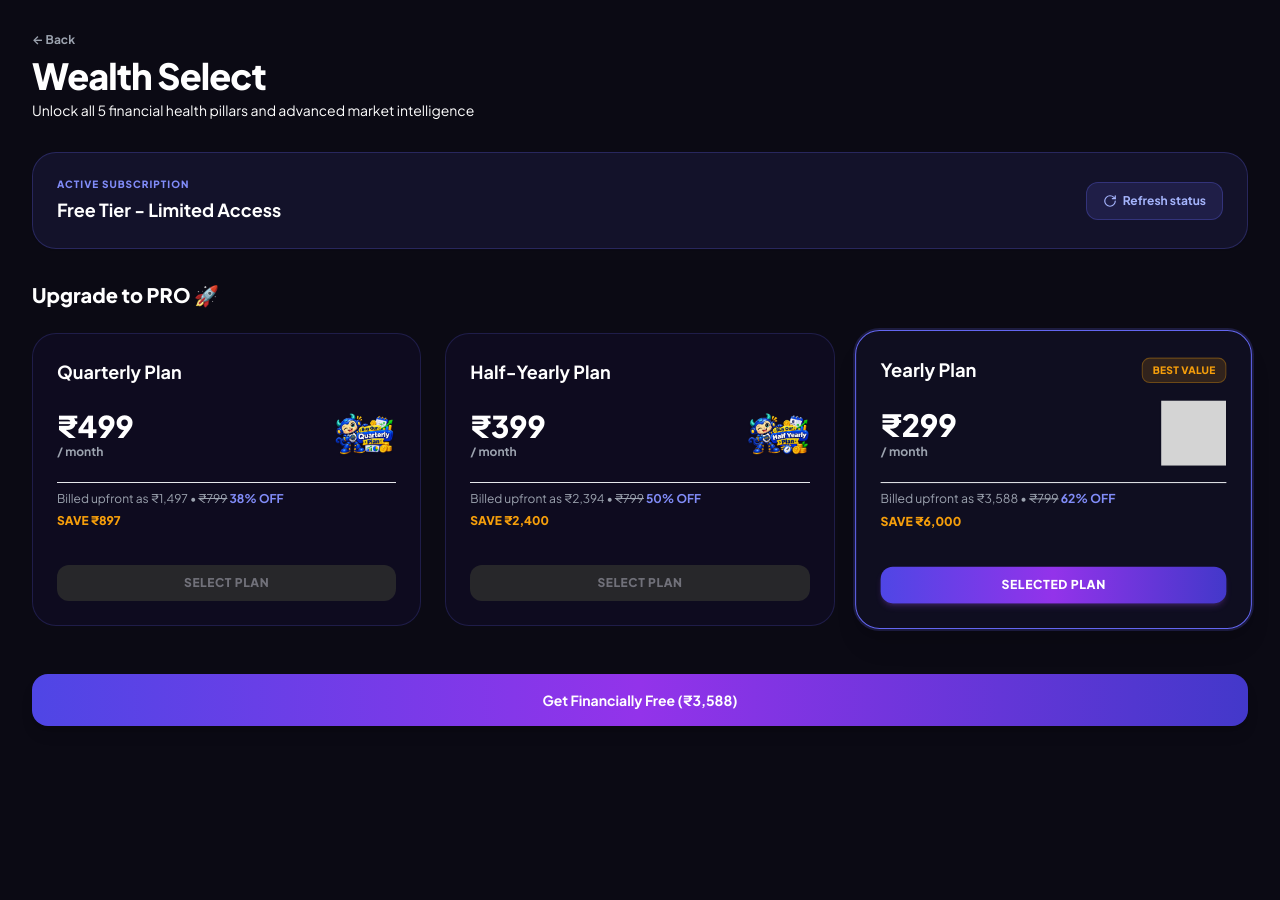
it: SubscriptionPage Global Plan Sync & Refresh Status › 4. UI shows PRO badge and updated status immediately after a successful refetch without needing a page reload (re-render test)
The image size is (1280, 900).
expect the text with test id "subscription-status-text" reads "Free Tier - Limited Access": met, box [57, 198, 281, 221]
User clicks "Refresh status" button on the website
Click the button with test id "refresh-status-btn" at (1154, 200), box [1086, 182, 1223, 220]
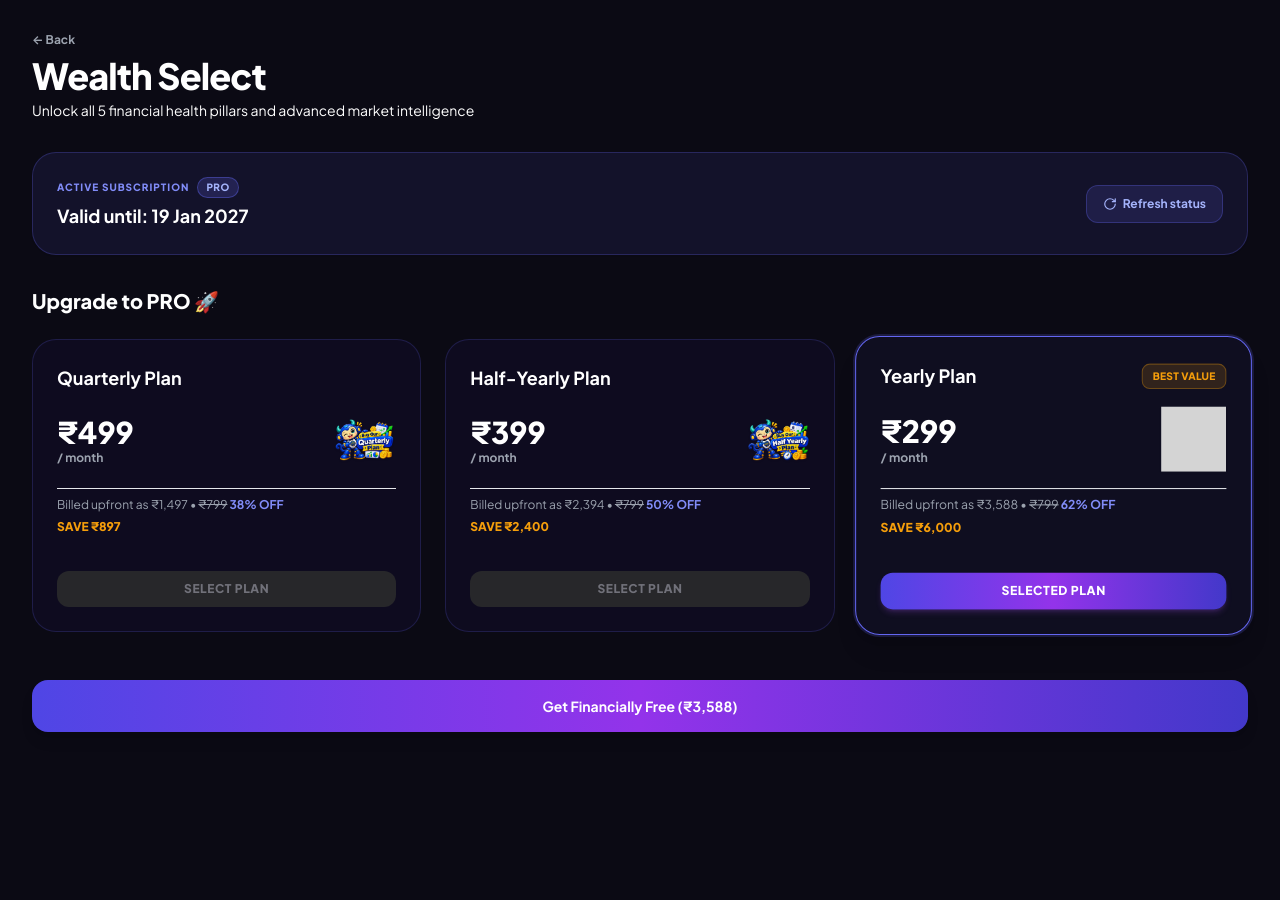
expect the text "PRO" is shown: met, box [197, 177, 239, 198]
expect the text with test id "pro-badge" reads "PRO": met, box [206, 181, 230, 193]
